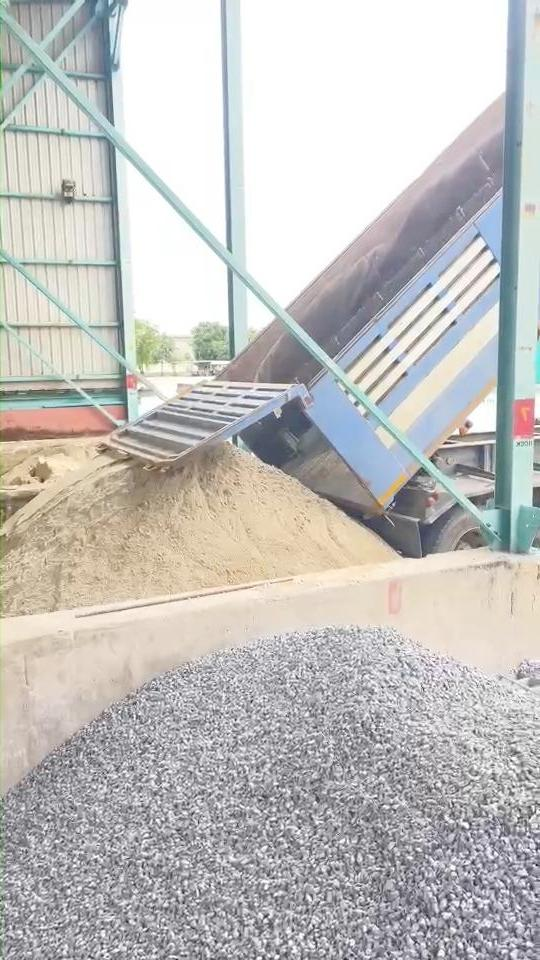gravel: (5, 628, 540, 959), (517, 659, 540, 687)
sand: (4, 444, 394, 613), (3, 453, 84, 485)
